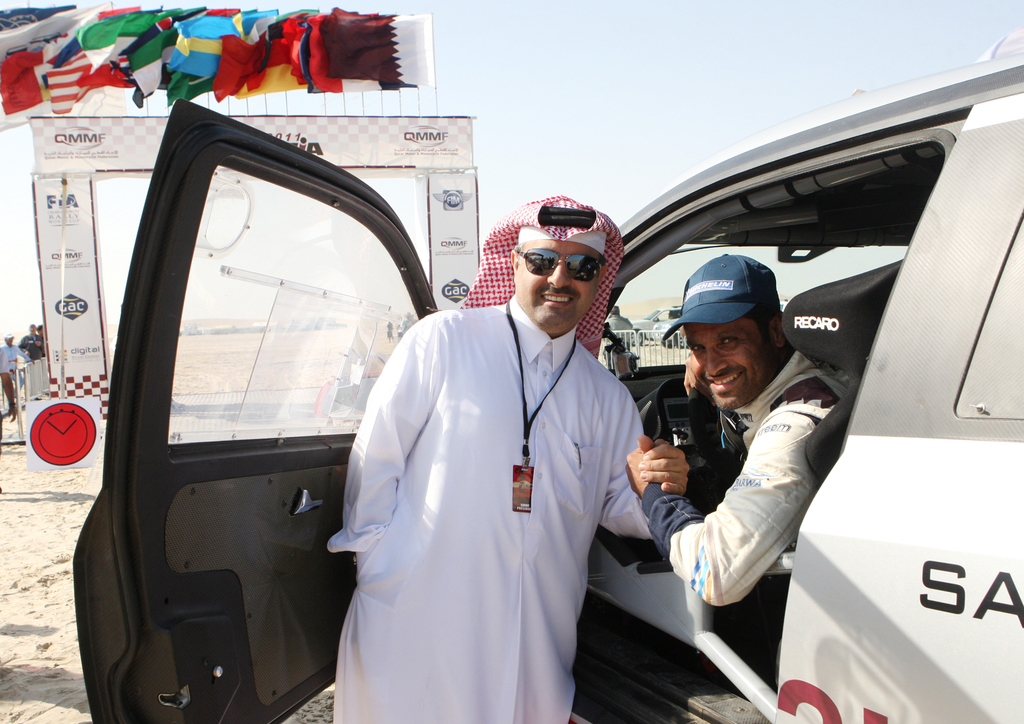cars: (51, 43, 959, 716)
